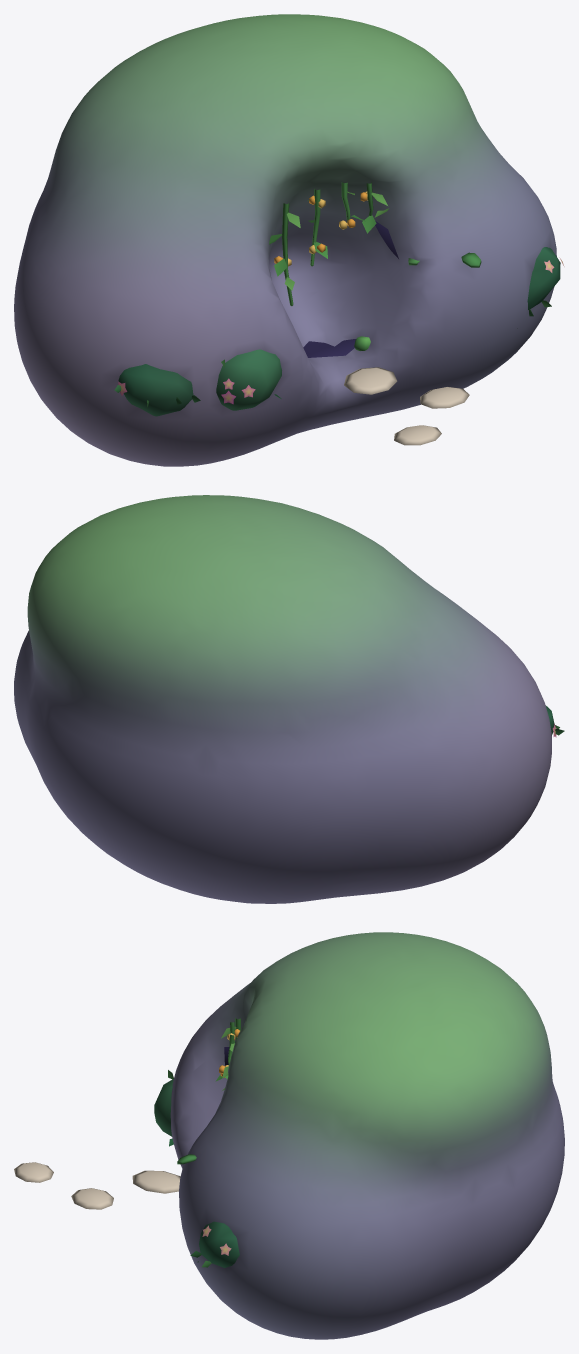
Rendered from prp_cave_door_lite.glb.
3 views of the same model, one above another, from view 1: azimuth 30°, elevation 25°; view 2: azimuth 150°, elevation 25°; view 3: azimuth 270°, elevation 25° (orthographic). The views are drawn at different scales.
Parts seen in each view (by area): view 1: INST_prp_cave_door_lite_door; view 2: INST_prp_cave_door_lite_door; view 3: INST_prp_cave_door_lite_door.
Boxes of the visible parts, x1,y1,x2,y2 form: INST_prp_cave_door_lite_door: (14, 14, 564, 466); INST_prp_cave_door_lite_door: (14, 495, 564, 903); INST_prp_cave_door_lite_door: (14, 932, 564, 1339).
Size of the model in its own units: 7.29 by 5.01 by 7.47.
